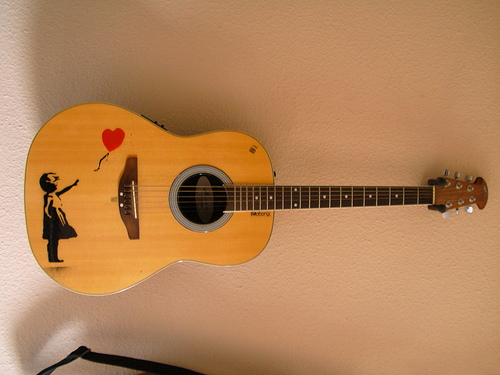guitar: (21, 102, 491, 299)
